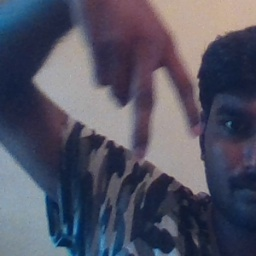Y: (100, 9, 206, 167)
